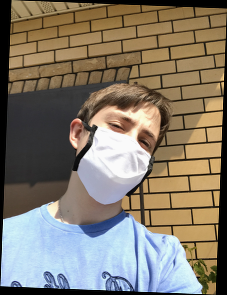with_mask: (69, 110, 161, 205)
